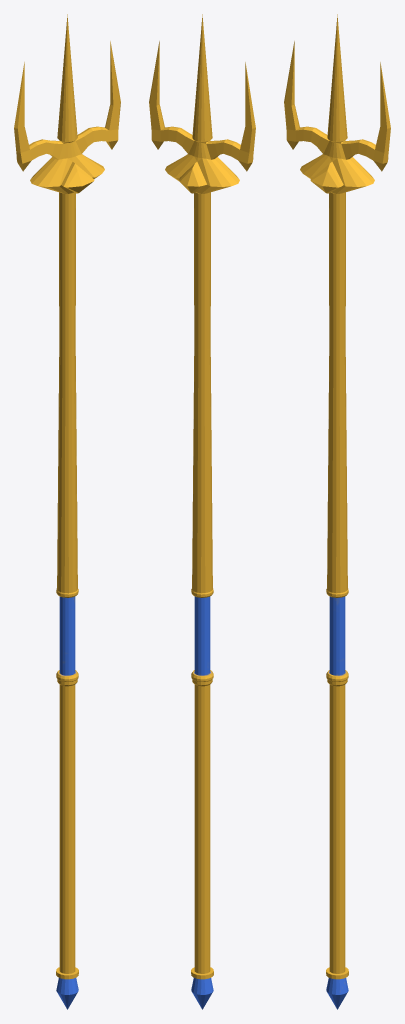
The model's file is DefaultTrident.fbx.
3 views of the same model, side by side, from view 1: azimuth 30°, elevation 25°; view 2: azimuth 150°, elevation 25°; view 3: azimuth 330°, elevation 25° (orthographic).
Visible parts, largest first — view 1: Trident; view 2: Trident; view 3: Trident.
Part boxes in pixels (x1,y1,x2,y2): Trident: (14,14,120,1009); Trident: (149,14,255,1009); Trident: (284,14,390,1009).
Bounding box in the file's own units: 19.86 × 177 × 9.76.
1 material, 1 textured.
